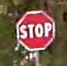stop: (16, 9, 56, 51)
